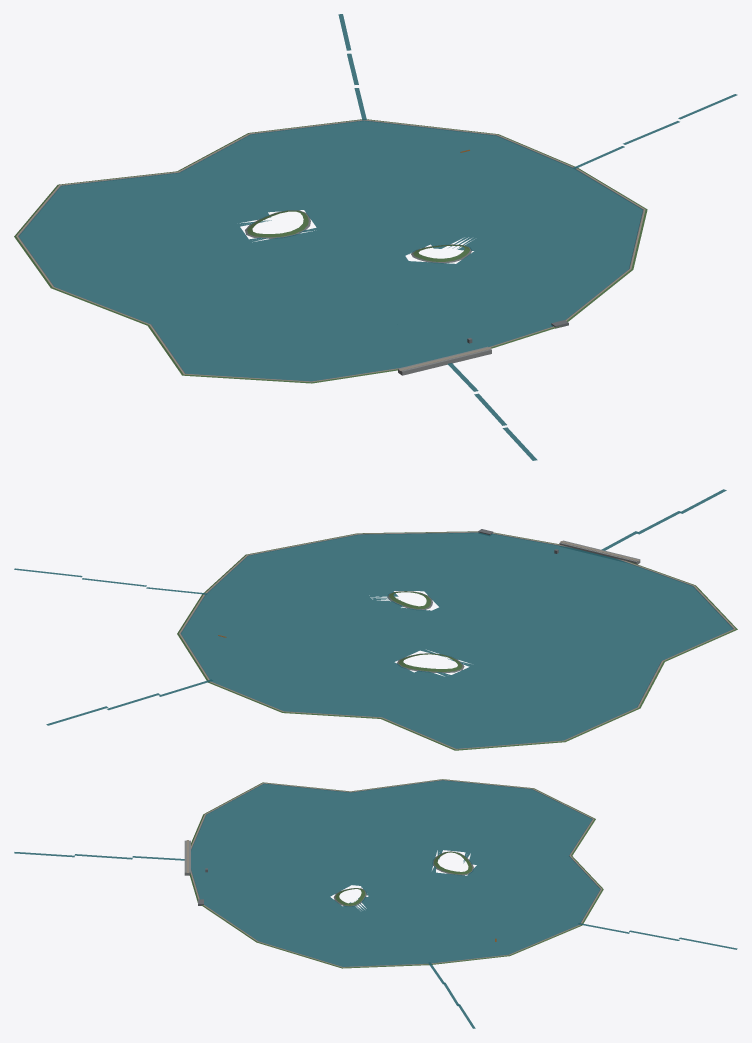
Rendered from water_ho_da_ron_don_duong.glb.
The picture shows the model from 3 angles, top to bottom: view 1: azimuth 30°, elevation 25°; view 2: azimuth 150°, elevation 25°; view 3: azimuth 270°, elevation 25°; orthographic projection. The views are drawn at different scales.
Visible parts, largest first — view 1: water_surface_water_ho_da_ron_don_duong, shoreline_terrain_transition_verge_water_ho_da_ron_don_duong, lakeside_promenade_walkway_water_ho_da_ron_don_duong, embankment_stone_coping_water_ho_da_ron_don_duong; view 2: water_surface_water_ho_da_ron_don_duong, shoreline_terrain_transition_verge_water_ho_da_ron_don_duong, lakeside_promenade_walkway_water_ho_da_ron_don_duong, embankment_stone_coping_water_ho_da_ron_don_duong, headwater_terraces_stream_da_ron_south_spillway_to_da_nhim, headwater_terraces_stream_da_ron_north_mountain_inflow, embankment_stone_slope_water_ho_da_ron_don_duong; view 3: water_surface_water_ho_da_ron_don_duong, shoreline_terrain_transition_verge_water_ho_da_ron_don_duong, lakeside_promenade_walkway_water_ho_da_ron_don_duong, embankment_stone_coping_water_ho_da_ron_don_duong.
Boxes of the visible parts, left/top/right/bottom form: water_surface_water_ho_da_ron_don_duong: left=18, top=120, right=642, bottom=381; shoreline_terrain_transition_verge_water_ho_da_ron_don_duong: left=14, top=119, right=647, bottom=383; lakeside_promenade_walkway_water_ho_da_ron_don_duong: left=16, top=119, right=645, bottom=382; embankment_stone_coping_water_ho_da_ron_don_duong: left=18, top=120, right=643, bottom=381; water_surface_water_ho_da_ron_don_duong: left=181, top=532, right=732, bottom=748; shoreline_terrain_transition_verge_water_ho_da_ron_don_duong: left=177, top=531, right=737, bottom=750; lakeside_promenade_walkway_water_ho_da_ron_don_duong: left=179, top=531, right=735, bottom=749; embankment_stone_coping_water_ho_da_ron_don_duong: left=180, top=532, right=733, bottom=748; headwater_terraces_stream_da_ron_south_spillway_to_da_nhim: left=601, top=489, right=726, bottom=550; headwater_terraces_stream_da_ron_north_mountain_inflow: left=46, top=679, right=213, bottom=725; embankment_stone_slope_water_ho_da_ron_don_duong: left=181, top=532, right=733, bottom=703; water_surface_water_ho_da_ron_don_duong: left=191, top=780, right=600, bottom=966; shoreline_terrain_transition_verge_water_ho_da_ron_don_duong: left=189, top=779, right=603, bottom=968; lakeside_promenade_walkway_water_ho_da_ron_don_duong: left=191, top=779, right=601, bottom=967; embankment_stone_coping_water_ho_da_ron_don_duong: left=191, top=780, right=600, bottom=966.
Bounding box in the file's own units: 2284 × 42 × 2754.
